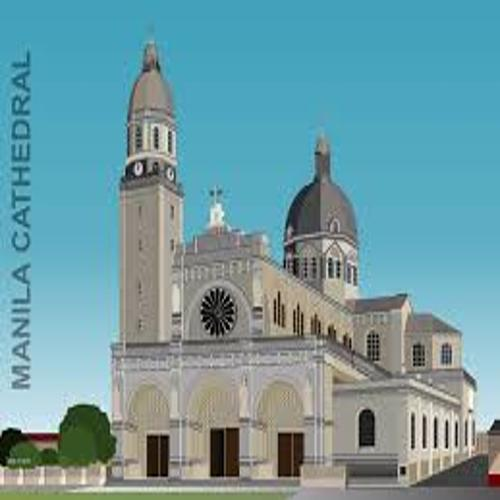Manila Cathedral Church: (78, 25, 487, 490)
